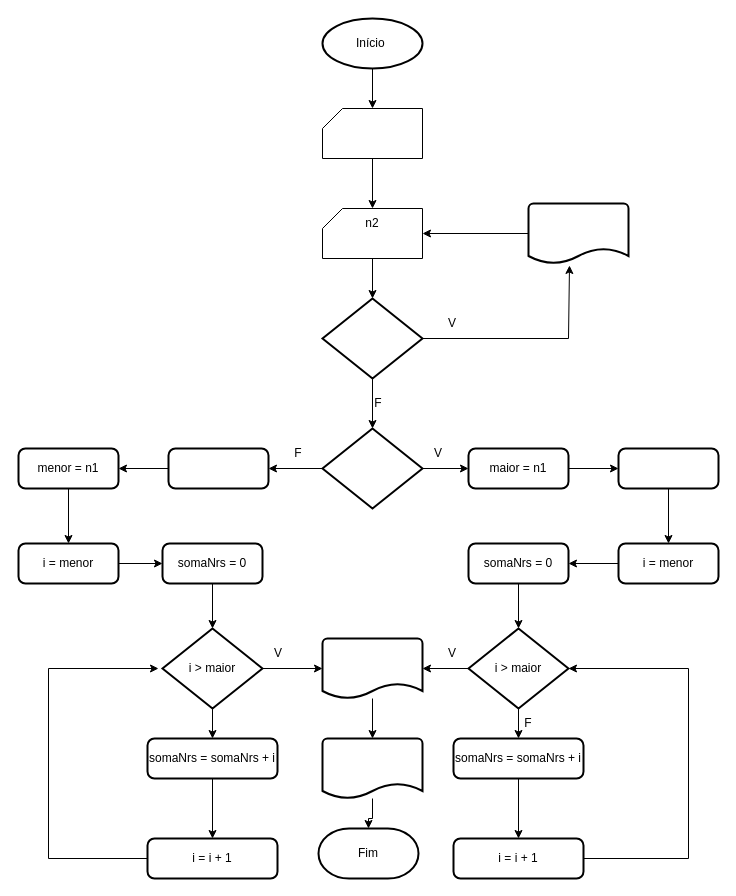
The diagram is 736 pixels wide and 896 high, and some of its shapes have lost their labels. Each missing label, with the centre of its shape:
Exibir maior: the point at 372,668
Exibir somaNrs: the point at 372,768
maior = n2: the point at 218,468
menor = n2: the point at 668,468
n1: the point at 372,133
n1 = n2: the point at 372,338
n1 > n2: the point at 372,468
n2 nao pode ser igual a n1: the point at 578,233
